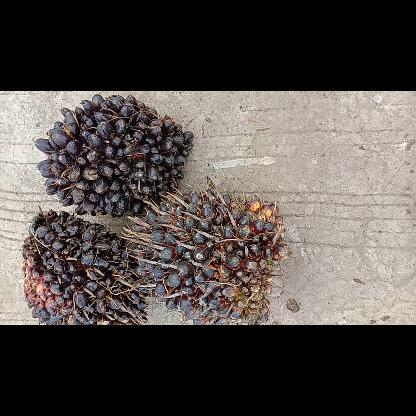TBS mentah: (126, 188, 294, 324), (33, 91, 198, 219), (20, 208, 152, 324)
